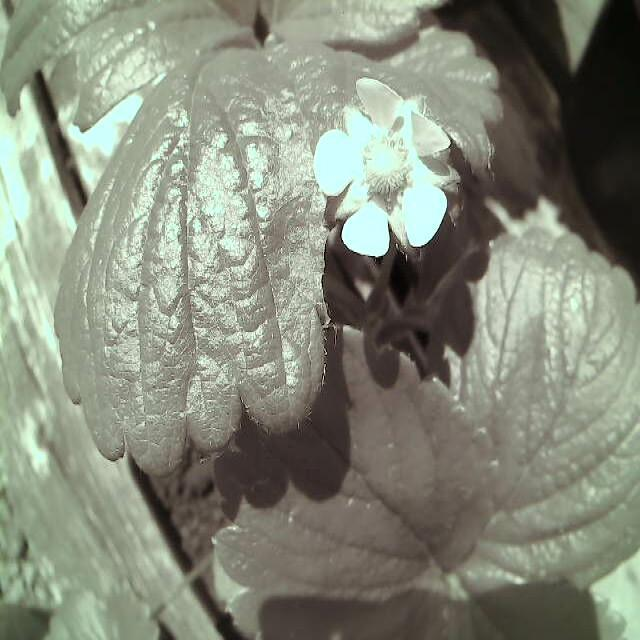flower: (307, 72, 464, 262)
